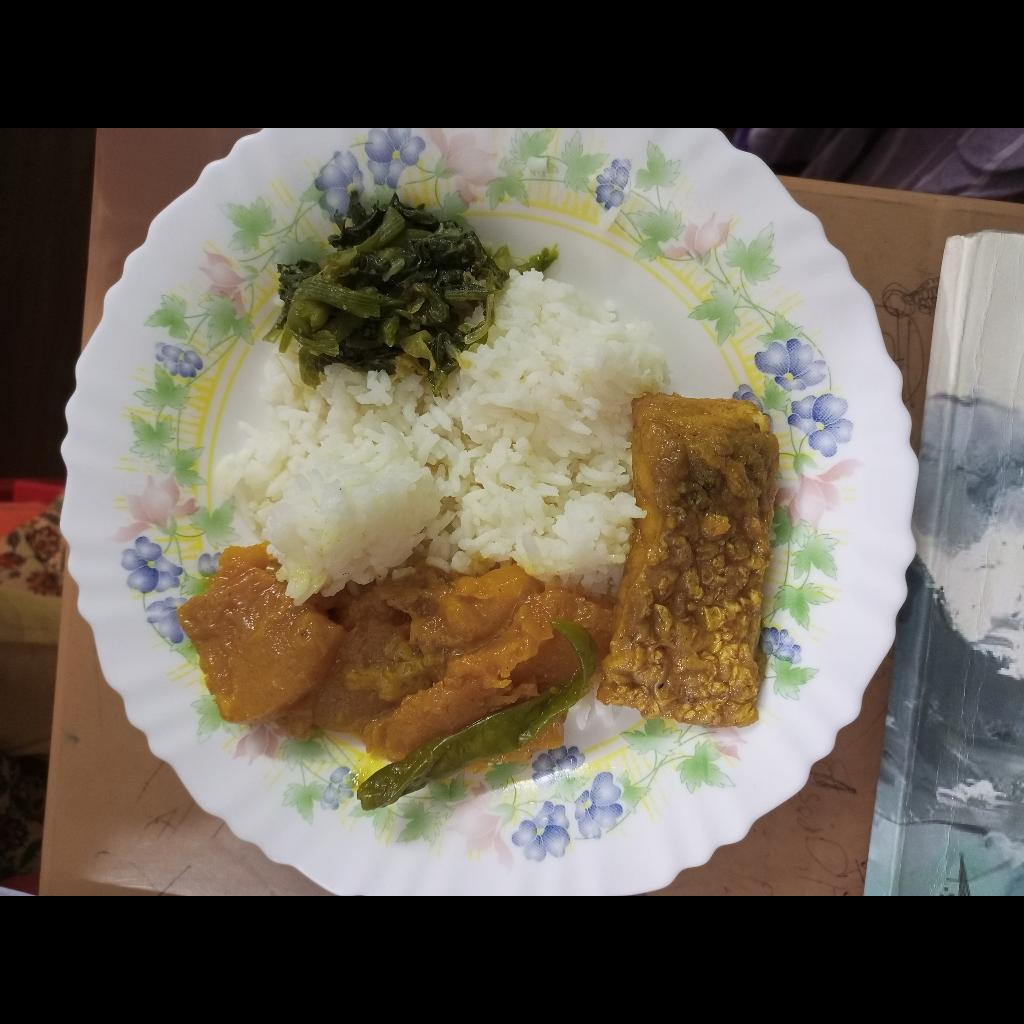fish: (598, 396, 777, 728)
kumra-vaji: (177, 534, 619, 763)
rice: (212, 270, 674, 605)
shak: (266, 187, 500, 400)
